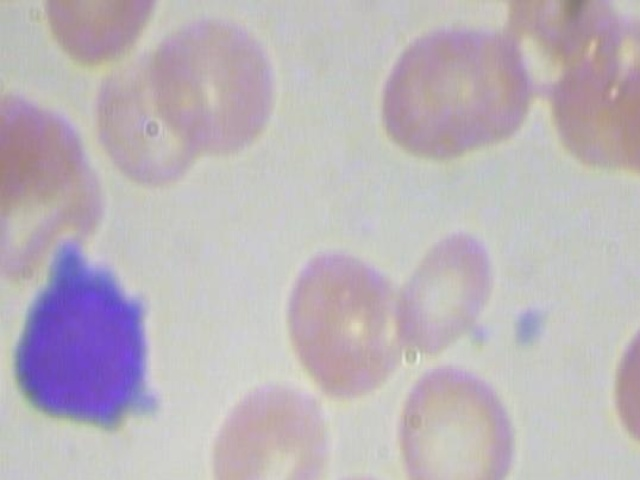RBC: (366, 14, 498, 175), (282, 239, 413, 400), (145, 6, 276, 166), (89, 37, 217, 189), (387, 355, 519, 480), (202, 375, 334, 480), (395, 220, 497, 352), (0, 65, 87, 205), (29, 0, 168, 65), (283, 471, 420, 480), (430, 0, 558, 2)
WBC: (0, 232, 184, 449)
